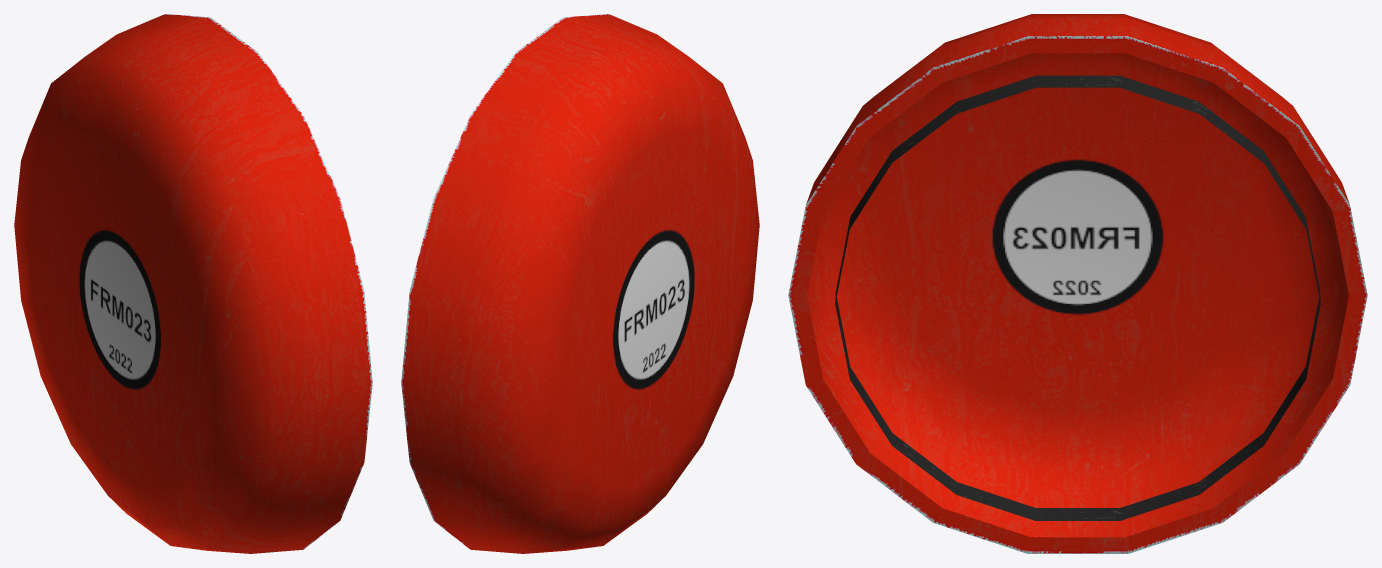
File: SM_FireAlarm.fbx
The picture shows the model from 3 angles, left to right: view 1: azimuth 30°, elevation 25°; view 2: azimuth 150°, elevation 25°; view 3: azimuth 270°, elevation 25°; orthographic projection. The views are drawn at different scales.
Visible parts, largest first — view 1: SM_FireAlarm_LOD0; view 2: SM_FireAlarm_LOD0; view 3: SM_FireAlarm_LOD0.
Boxes of the visible parts, x1,y1,x2,y2 form: SM_FireAlarm_LOD0: (14,14,372,553); SM_FireAlarm_LOD0: (401,14,759,553); SM_FireAlarm_LOD0: (788,14,1367,553).
Size of the model in its own units: 6.17 by 22.44 by 22.1.
1 material, 1 textured.
